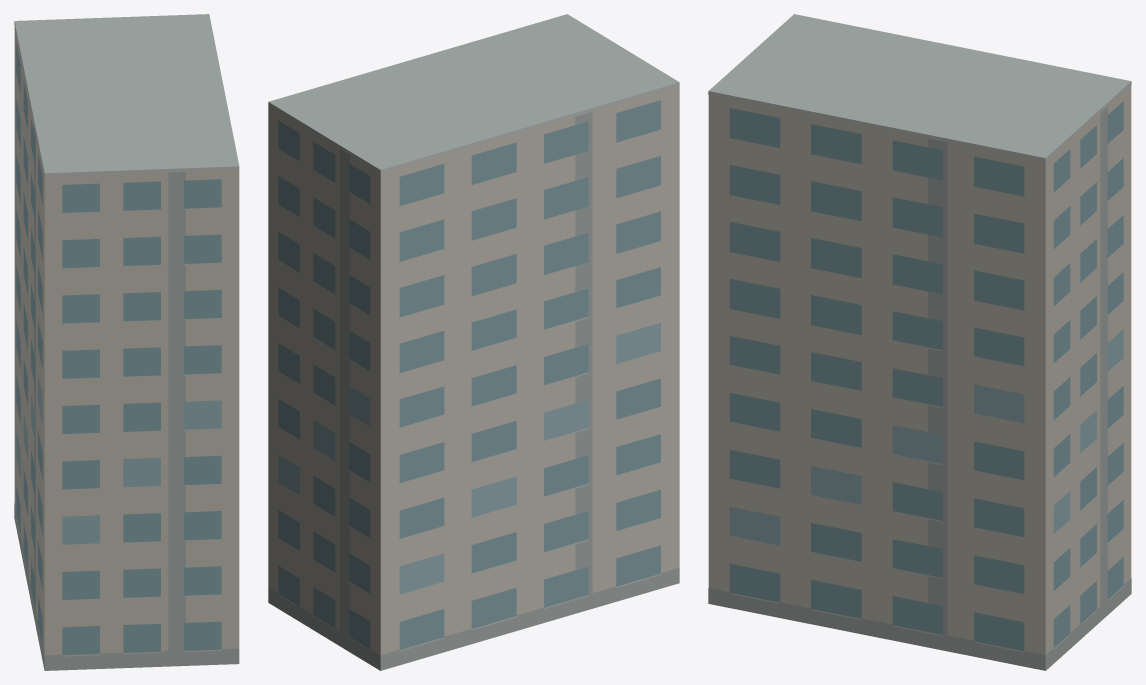
The model's file is residential-008880c9-8b0f-405e-ba4d-4b0662c0e899.glb.
3 renders of one model, left to right at view 1: azimuth 30°, elevation 25°; view 2: azimuth 150°, elevation 25°; view 3: azimuth 270°, elevation 25°, orthographic. The views are drawn at different scales.
Visible parts, largest first — view 1: residential-008880c9-8b0f-405e-ba4d-4b0662c0e899.tmp; view 2: residential-008880c9-8b0f-405e-ba4d-4b0662c0e899.tmp; view 3: residential-008880c9-8b0f-405e-ba4d-4b0662c0e899.tmp.
Part boxes in pixels (x1=…): residential-008880c9-8b0f-405e-ba4d-4b0662c0e899.tmp: x1=14, y1=14, x2=239, y2=670; residential-008880c9-8b0f-405e-ba4d-4b0662c0e899.tmp: x1=268, y1=14, x2=679, y2=670; residential-008880c9-8b0f-405e-ba4d-4b0662c0e899.tmp: x1=708, y1=14, x2=1131, y2=670.
Bounding box in the file's own units: 18.7 × 31 × 23.19.
